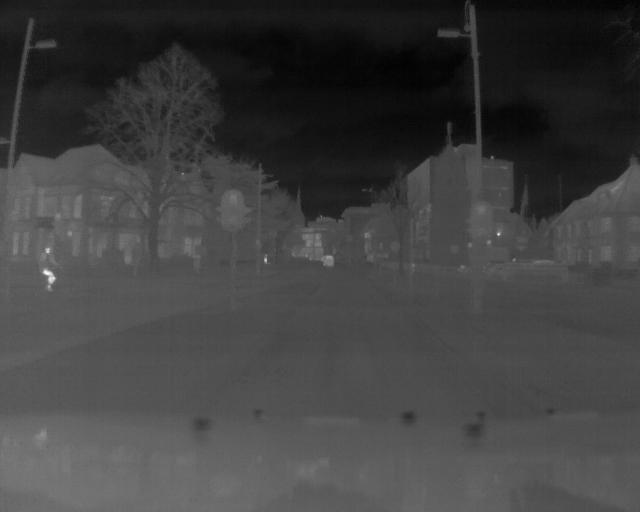car: (321, 253, 336, 269)
person: (36, 243, 59, 290)
